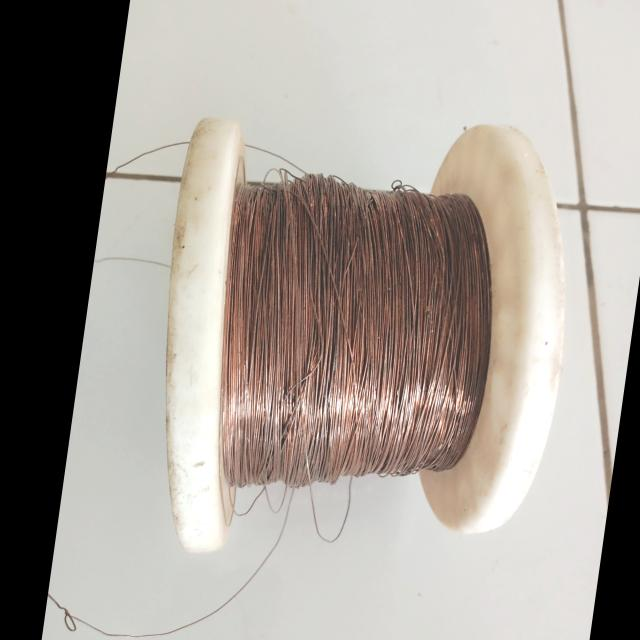Copper Wire: (116, 94, 616, 578)
